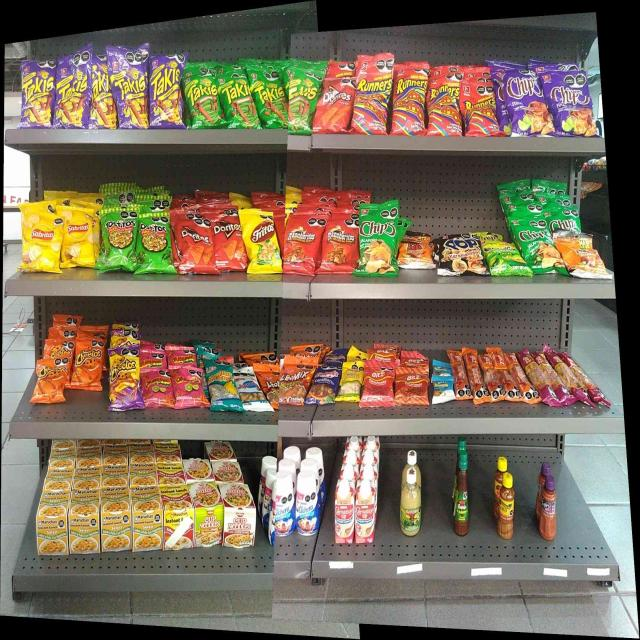bitzAlmendras: (433, 376, 453, 400)
bitzEnchilado90: (364, 361, 393, 406), (396, 366, 428, 404)
bitzEnchilado95: (455, 349, 520, 402)
bitzHabanero: (522, 349, 598, 406)
bokadosCacahuates: (310, 366, 336, 403)
botaneraChilito: (498, 471, 512, 539)
cheetosFlaminHot: (109, 347, 139, 409)
cheetosOriginal: (68, 334, 102, 390), (36, 361, 66, 402)
chipsFuego: (497, 73, 547, 136), (548, 71, 590, 137)
chipsJalapeno: (359, 204, 399, 276), (529, 220, 557, 274)
chipsPapatinas: (487, 242, 527, 278)
churrumais: (174, 366, 204, 406), (141, 369, 172, 406), (141, 348, 166, 367), (168, 346, 194, 364)
delPrimoSalsa: (400, 468, 420, 534)
doritosNacho: (172, 215, 211, 273), (212, 207, 244, 271), (320, 77, 350, 131)
fritosLimon: (246, 210, 282, 274)
hotNutsOriginal: (560, 230, 599, 277), (401, 231, 436, 269)
leoCacahuates: (235, 366, 258, 411)
leoMix: (282, 355, 308, 404), (261, 364, 280, 404)
maruchanPollo: (37, 491, 68, 556), (101, 483, 131, 550), (132, 485, 163, 549), (70, 488, 98, 553)
maruchanRes: (164, 484, 193, 549)
nestleCarnation: (356, 480, 375, 544), (336, 479, 354, 545)
nestleLechera: (296, 471, 320, 534), (276, 474, 294, 535)
nissinCamaron: (195, 482, 222, 546)
nissinRes: (224, 481, 256, 547)
popKarameladas: (439, 239, 484, 276)
rancheritos: (286, 213, 320, 272), (322, 219, 358, 271)
runners: (356, 61, 391, 136), (393, 64, 426, 133), (427, 75, 460, 136), (462, 81, 494, 138)
sabritasOriginal: (57, 205, 97, 267), (21, 209, 55, 270)
salsaBufalo: (454, 453, 470, 537)
semillasCalabaza: (338, 363, 361, 402)
semillasGirasol: (206, 354, 233, 410)
tajinDulce: (540, 477, 557, 541)
takisFuego: (117, 46, 149, 127), (151, 54, 183, 129), (56, 59, 88, 128), (22, 61, 54, 128), (90, 55, 115, 128)
takisOriginal: (254, 69, 288, 131), (184, 65, 218, 126), (290, 68, 319, 134), (221, 74, 251, 129)
tostitos: (98, 210, 136, 271), (138, 214, 171, 272)
